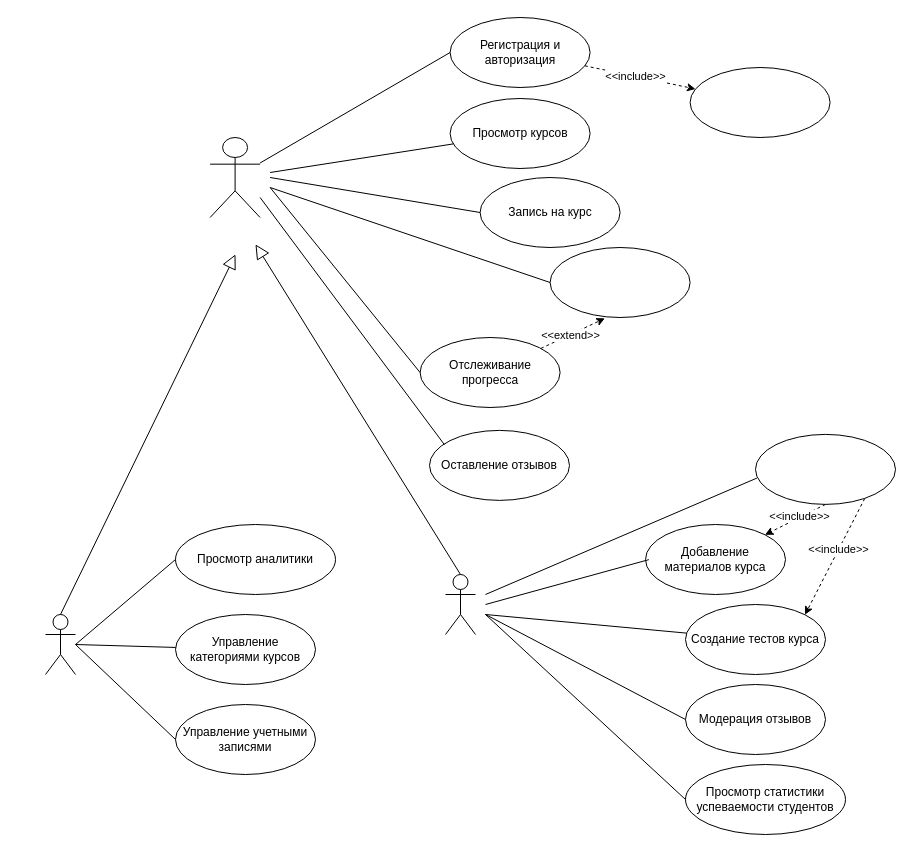
Some shapes in this 913 by 852 pixel diagram are drawn without their labels. Each missing label, with the centre of its shape:
Администратор: (x=60, y=644)
Подтверждение почты: (x=759, y=102)
Преподаватель: (x=460, y=604)
Прохождение тестов: (x=619, y=282)
Создание и редактирование курсов: (x=825, y=468)
Студент: (x=234, y=177)
